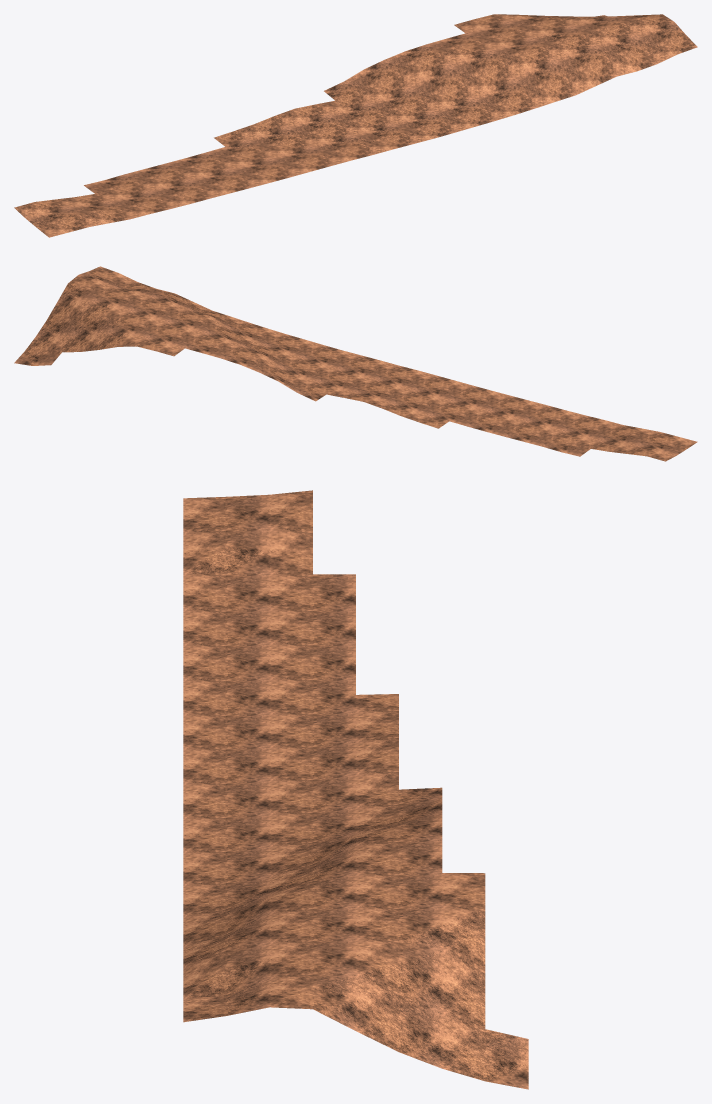
Rendered from terrain_10_02.dae.
3 views of the same model, one above another, from view 1: azimuth 30°, elevation 25°; view 2: azimuth 150°, elevation 25°; view 3: azimuth 270°, elevation 25° (orthographic). The views are drawn at different scales.
Visible parts, largest first — view 1: terrain_10_02-node; view 2: terrain_10_02-node; view 3: terrain_10_02-node.
Part boxes in pixels (<box>): terrain_10_02-node: <box>14,14,697,237</box>; terrain_10_02-node: <box>14,266,697,461</box>; terrain_10_02-node: <box>183,490,528,1089</box>.
Bounding box in the file's own units: 128 × 32 × 8.41.
Materials: 1 (1 with a texture image).
